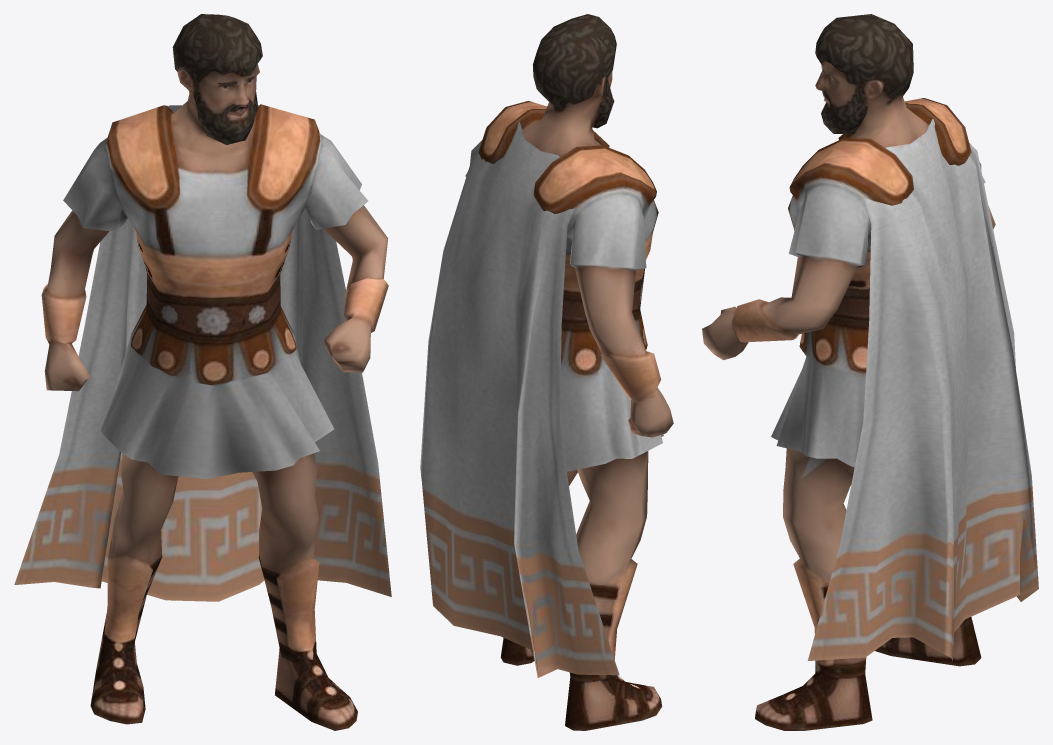
The model's file is body-mediumarchers.glb.
3 renders of one model, left to right at view 1: azimuth 30°, elevation 25°; view 2: azimuth 150°, elevation 25°; view 3: azimuth 270°, elevation 25°, orthographic. The views are drawn at different scales.
Size of the model in its own units: 0.8742 by 2.06 by 0.9421.
Materials: 1 (1 with a texture image).
